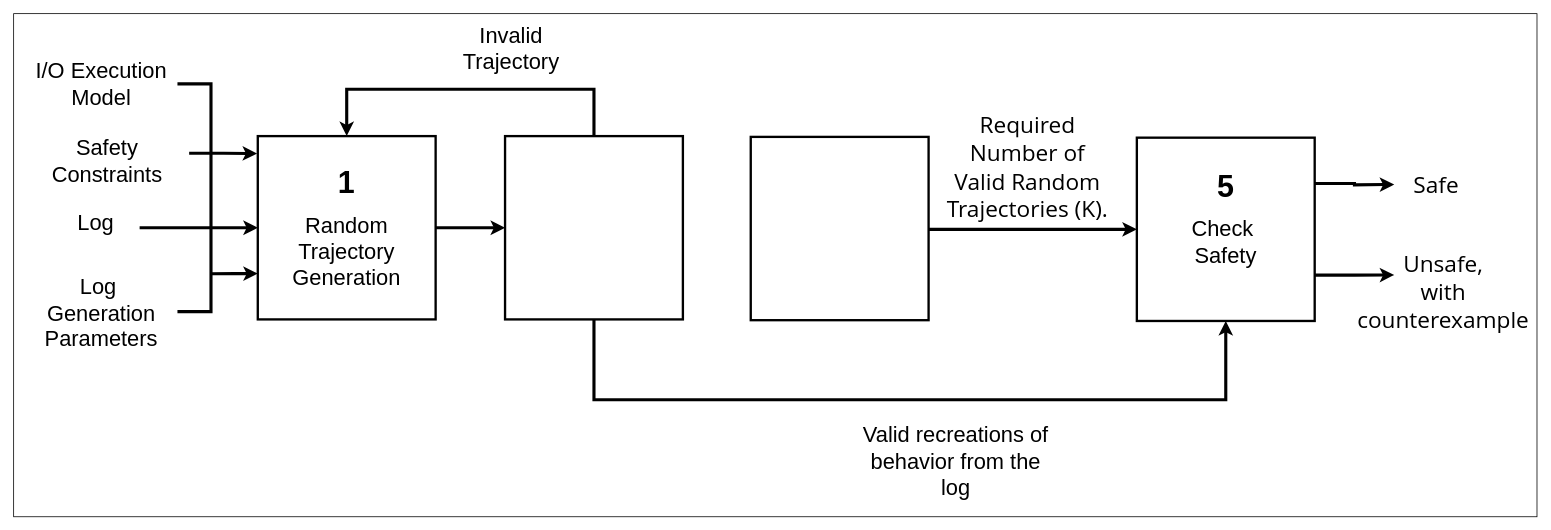
Some shapes in this 1551 by 530 pixel diagram are drawn without their labels. The shapes that lost their labels are listed below. From the top down, each one's centre as x and y in pixels, then its label:
the point at 593,227: 2 Generate Log
the point at 839,228: 3 Statistical Hypothesis Testing
